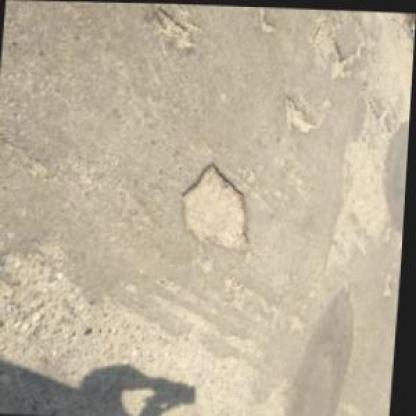pothole: (176, 158, 259, 255), (150, 4, 198, 49), (279, 93, 319, 133), (324, 41, 354, 80)
